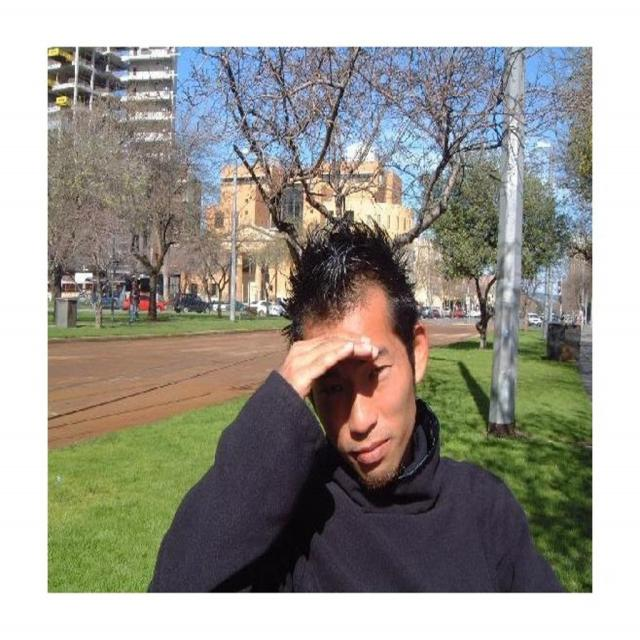nomask: (299, 291, 409, 486)
